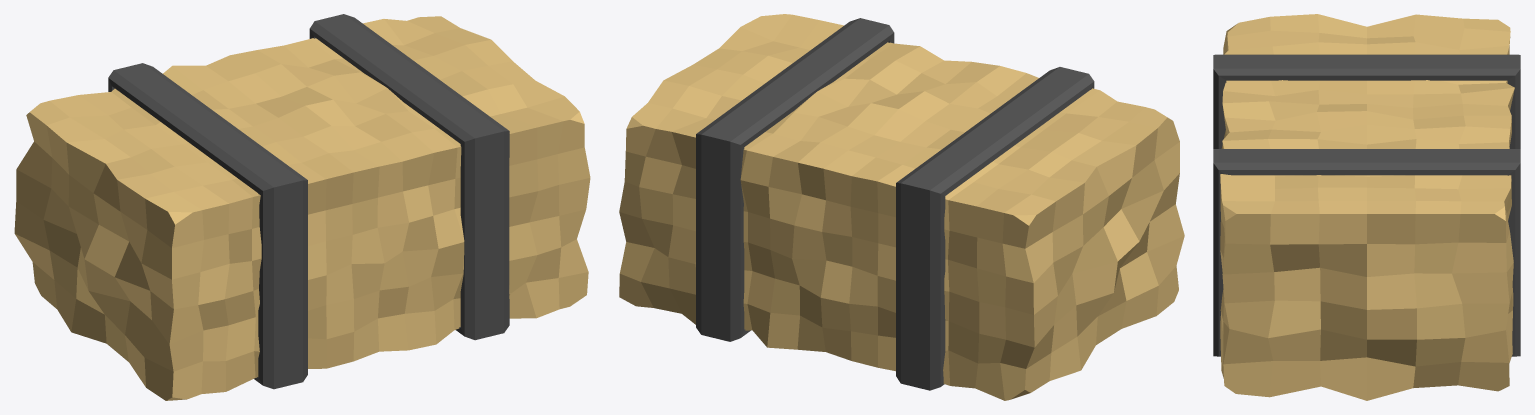
The model's file is hay roll_2.fbx.
The picture shows the model from 3 angles, left to right: view 1: azimuth 30°, elevation 25°; view 2: azimuth 150°, elevation 25°; view 3: azimuth 270°, elevation 25°; orthographic projection. The views are drawn at different scales.
Parts seen in each view (by area): view 1: Cube; view 2: Cube; view 3: Cube.
Boxes of the visible parts, bbox=[...] form: Cube: bbox=[14, 14, 590, 400]; Cube: bbox=[619, 14, 1184, 400]; Cube: bbox=[1213, 14, 1520, 400].
Size of the model in its own units: 220 by 96.97 by 139.
